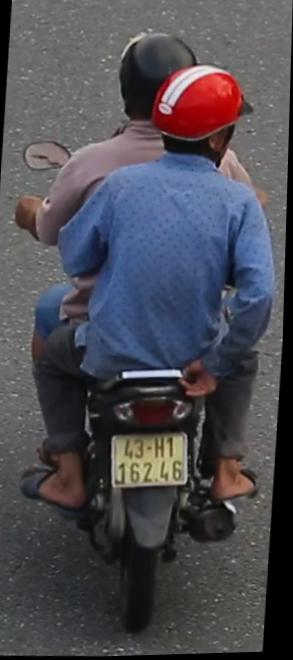LP: (108, 422, 196, 493)
helmet: (148, 62, 257, 181), (113, 26, 203, 130)
